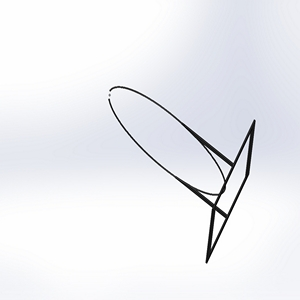circle: (105, 82, 256, 263)
